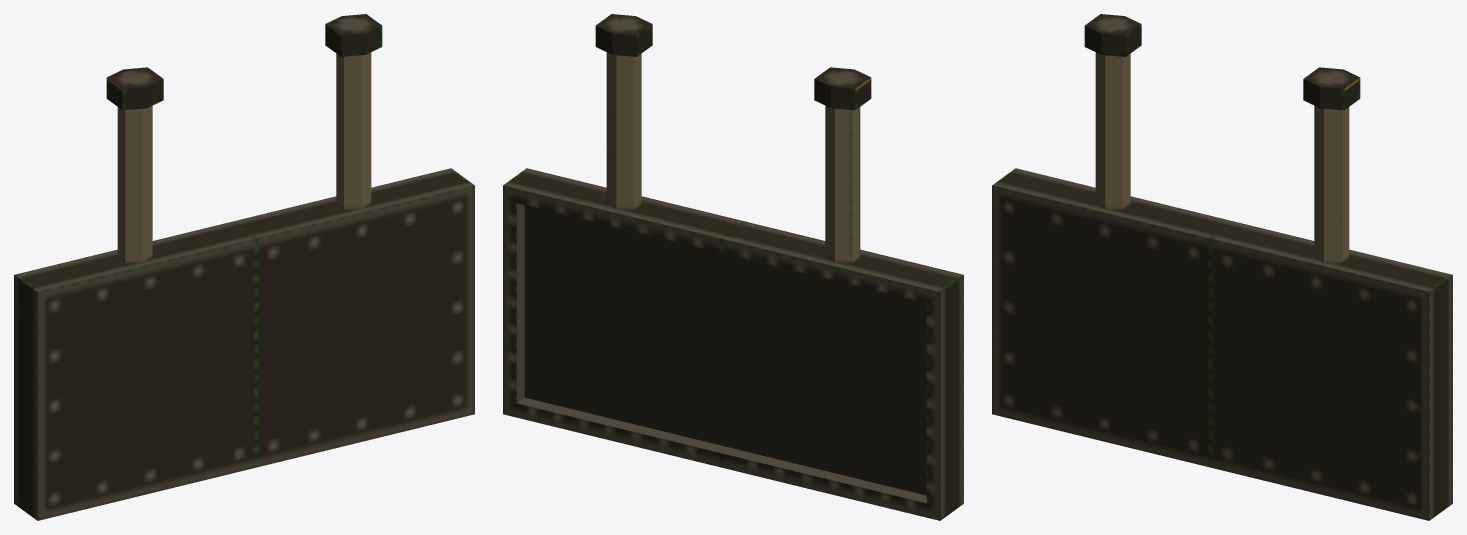
The model's file is Signal.fbx.
3 renders of one model, left to right at view 1: azimuth 30°, elevation 25°; view 2: azimuth 150°, elevation 25°; view 3: azimuth 330°, elevation 25°, orthographic.
Visible parts, largest first — view 1: Signal; view 2: Signal; view 3: Signal.
Part boxes in pixels (x1,y1,x2,y2): Signal: [14, 14, 474, 520]; Signal: [503, 14, 963, 520]; Signal: [992, 14, 1452, 520].
Size of the model in its own units: 200 by 178 by 18.75.
